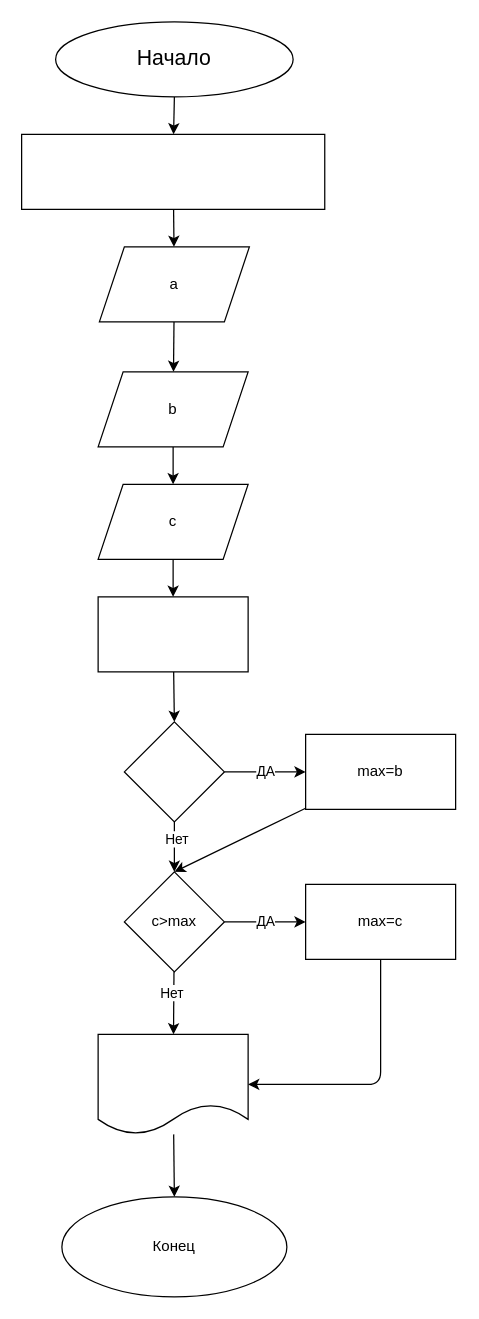
The diagram is 479 pixels wide and 1319 high, and some of its shapes have lost their labels. The shapes that lost their labels are listed below. From the top down, each one's centre as x and y in pixels, then its label:
At point 172,171: "int a int b int c int max".
At point 172,634: "max=a".
At point 173,771: "b>max".
At point 172,1083: "max".
